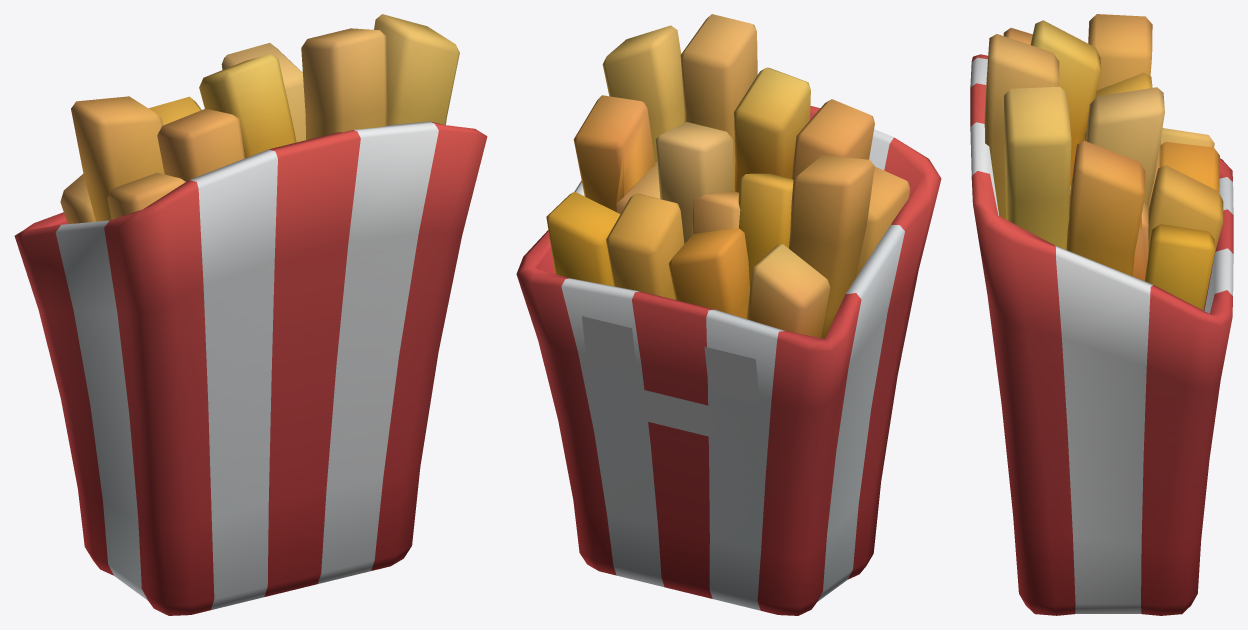
Rendered from fries_smile.fbx.
3 renders of one model, left to right at view 1: azimuth 30°, elevation 25°; view 2: azimuth 150°, elevation 25°; view 3: azimuth 270°, elevation 25°, orthographic. The views are drawn at different scales.
Parts seen in each view (by area): view 1: fries_smile; view 2: fries_smile; view 3: fries_smile.
Boxes of the visible parts, x1,y1,x2,y2 form: fries_smile: (14, 14, 487, 615); fries_smile: (516, 14, 941, 615); fries_smile: (970, 14, 1233, 615).
Bounding box in the file's own units: 74.12 × 111 × 48.05.
2 materials, 1 textured.
